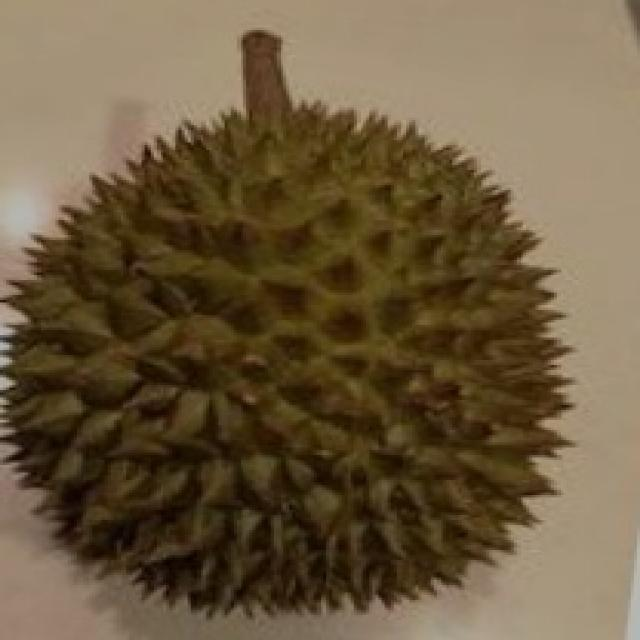fruit: (231, 242, 615, 640), (3, 282, 379, 640)
